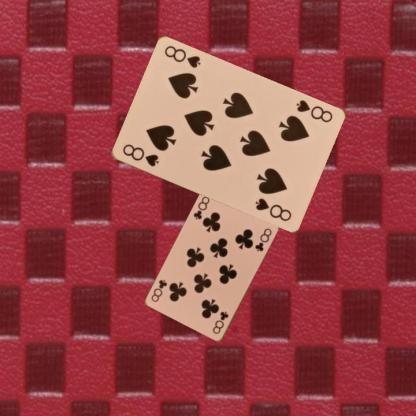8c: (191, 194, 211, 221), (210, 309, 230, 335)
8s: (120, 141, 160, 168), (293, 97, 333, 124)
